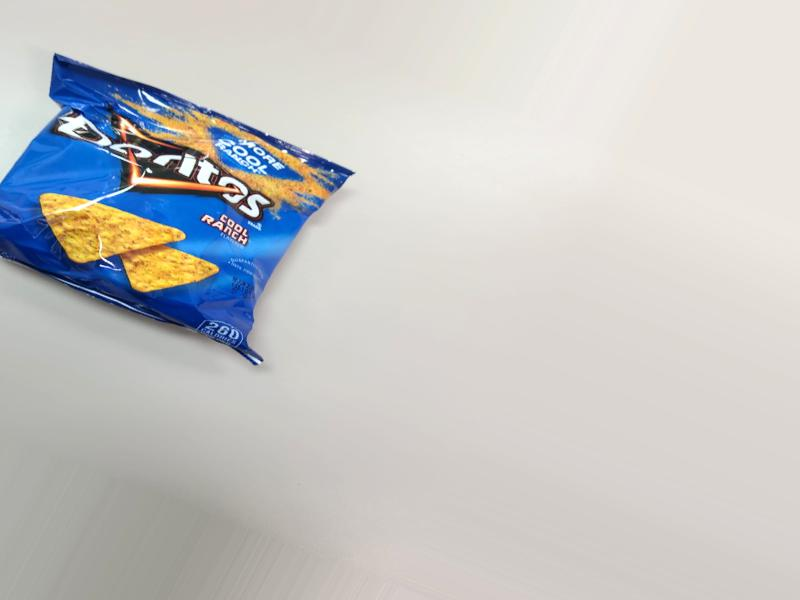doritos: (0, 79, 338, 361)
